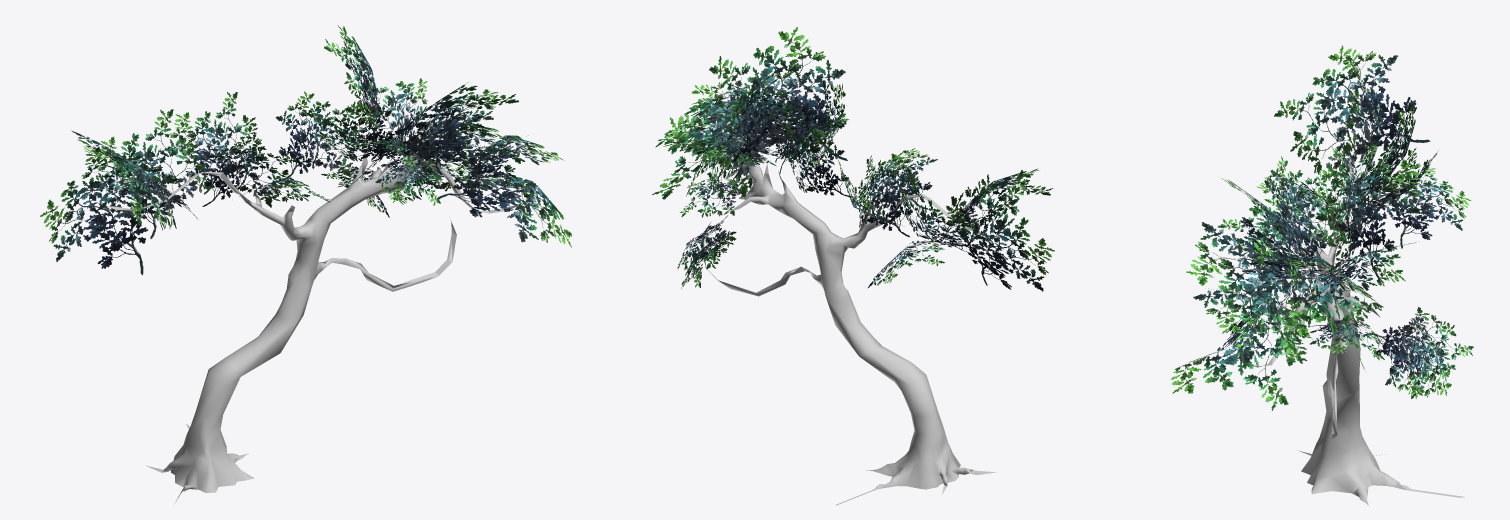
The model's file is Tree_Snaky_LOD1.fbx.
3 views of the same model, side by side, from view 1: azimuth 30°, elevation 25°; view 2: azimuth 150°, elevation 25°; view 3: azimuth 270°, elevation 25° (orthographic). The views are drawn at different scales.
Parts seen in each view (by area): view 1: U3DMesh; view 2: U3DMesh; view 3: U3DMesh.
Part boxes in pixels (x1,y1,x2,y2): U3DMesh: (40,25,571,501); U3DMesh: (652,27,1054,505); U3DMesh: (1171,45,1473,505).
Size of the model in its own units: 62.71 by 47.06 by 37.97.
